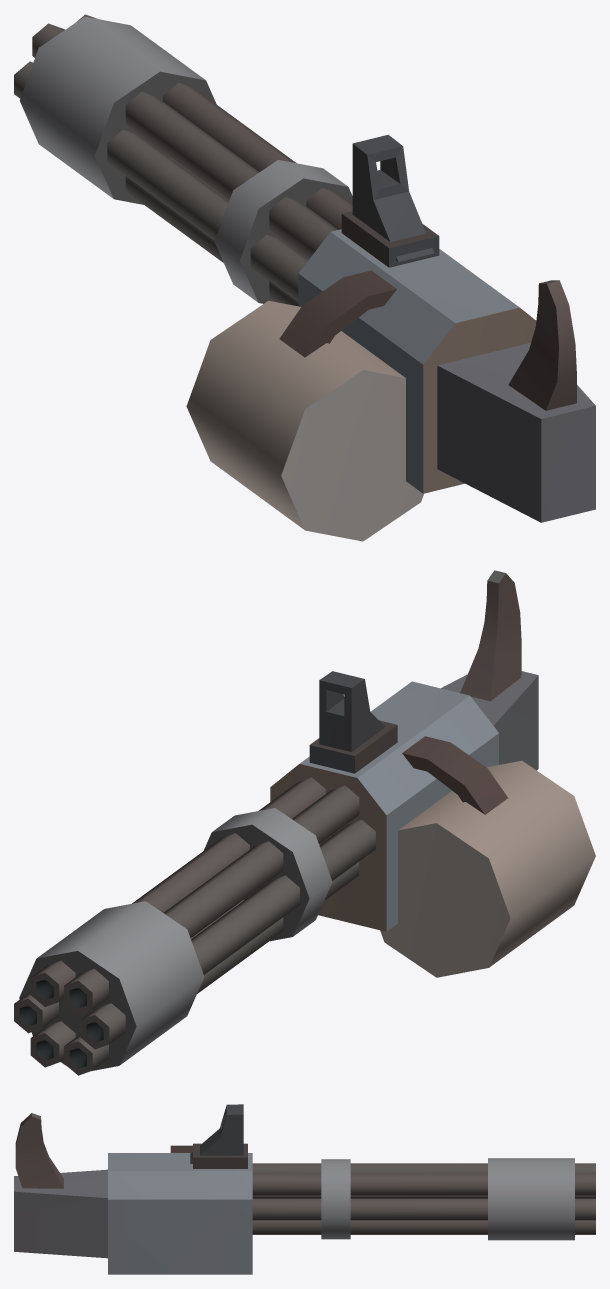
The model's file is launcher_mg.glb.
3 renders of one model, top to bottom at view 1: azimuth 30°, elevation 25°; view 2: azimuth 150°, elevation 25°; view 3: azimuth 270°, elevation 25°, orthographic. The views are drawn at different scales.
Visible parts, largest first — view 1: mg_mesh; view 2: mg_mesh; view 3: mg_mesh.
Boxes of the visible parts, x1,y1,x2,y2 form: mg_mesh: (14,14,595,541); mg_mesh: (14,570,595,1075); mg_mesh: (14,1104,595,1274).
Bounding box in the file's own units: 0.3549 × 0.4045 × 1.21.
1 material, 1 textured.
